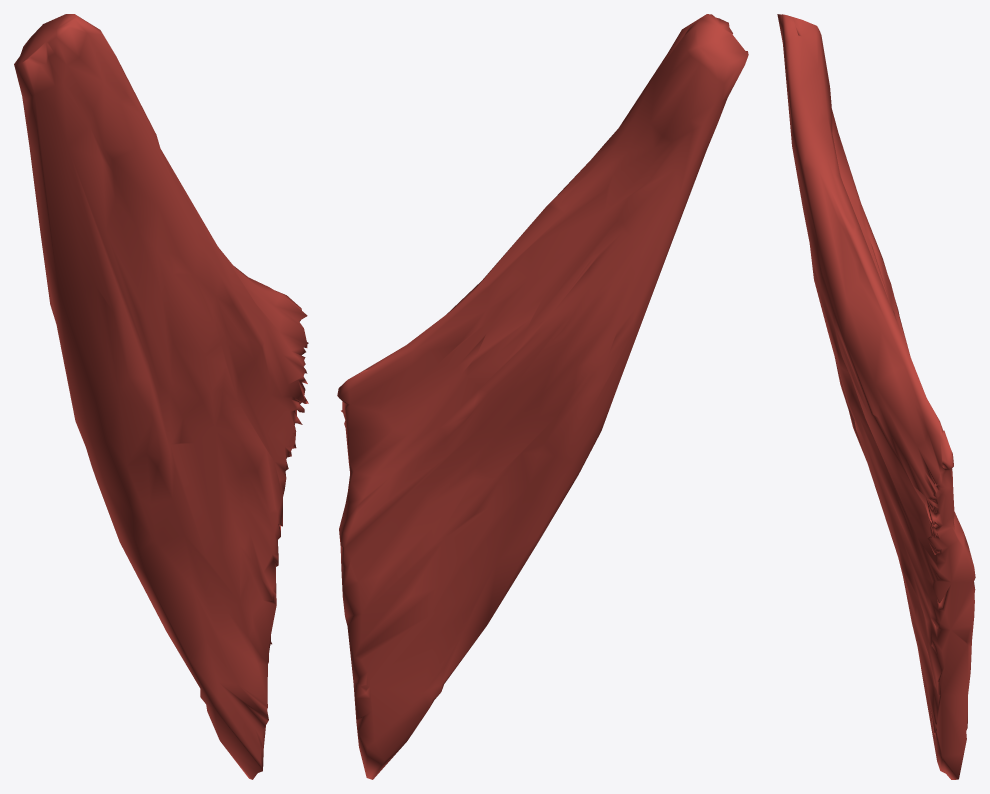
Rendered from musculos-adductor-brevis-l.glb.
3 views of the same model, side by side, from view 1: azimuth 30°, elevation 25°; view 2: azimuth 150°, elevation 25°; view 3: azimuth 270°, elevation 25° (orthographic). The views are drawn at different scales.
Visible parts, largest first — view 1: Adductor brevis.l; view 2: Adductor brevis.l; view 3: Adductor brevis.l.
Part boxes in pixels (bbox=[...]): Adductor brevis.l: bbox=[14, 14, 308, 779]; Adductor brevis.l: bbox=[337, 14, 748, 779]; Adductor brevis.l: bbox=[777, 14, 975, 779].
Bounding box in the file's own units: 0.0791 × 0.1763 × 0.0478.
